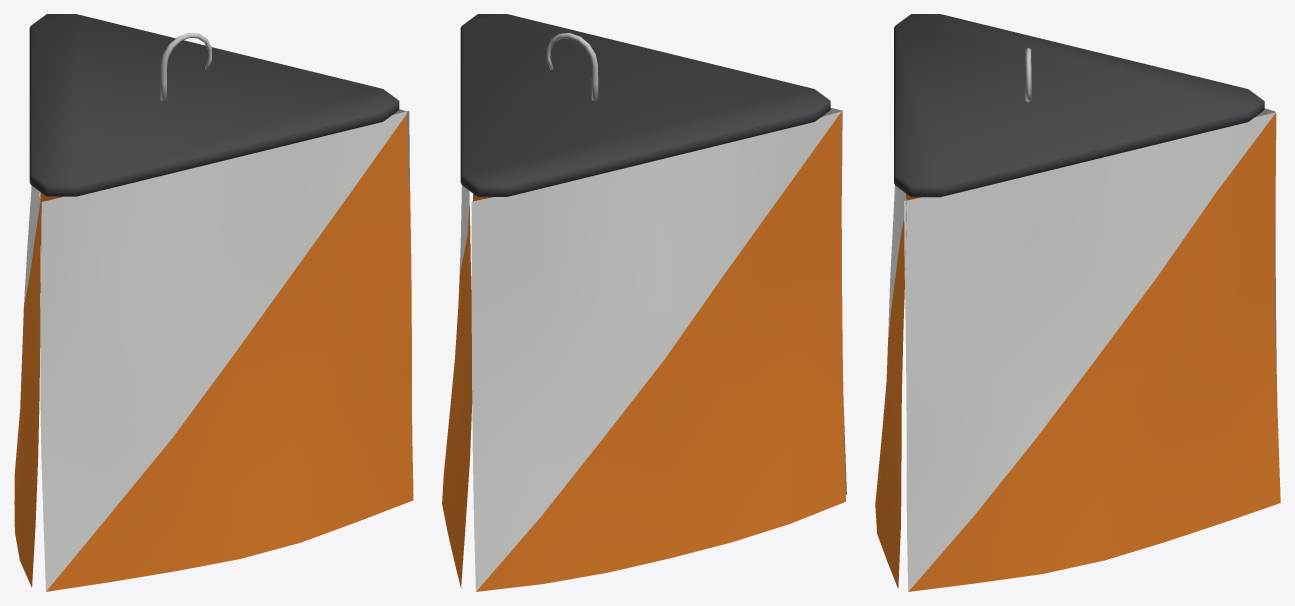
The model's file is control-flag.glb.
3 renders of one model, left to right at view 1: azimuth 30°, elevation 25°; view 2: azimuth 150°, elevation 25°; view 3: azimuth 270°, elevation 25°, orthographic.
Parts seen in each view (by area): view 1: control-flag_LOD0; view 2: control-flag_LOD0; view 3: control-flag_LOD0.
Boxes of the visible parts, bbox=[...] form: control-flag_LOD0: bbox=[14, 14, 413, 591]; control-flag_LOD0: bbox=[442, 14, 846, 591]; control-flag_LOD0: bbox=[875, 14, 1280, 591].
Size of what is drawn, in the model's own units: 0.3092 by 0.3599 by 0.2843.
